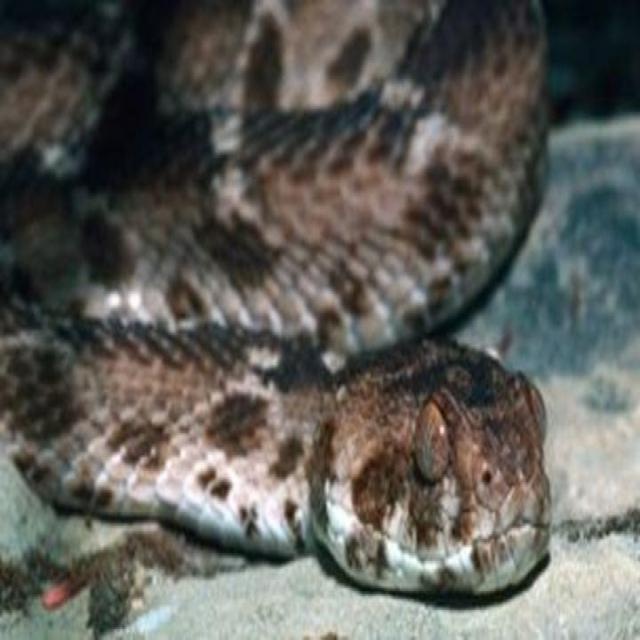Snake: (0, 0, 554, 600)
